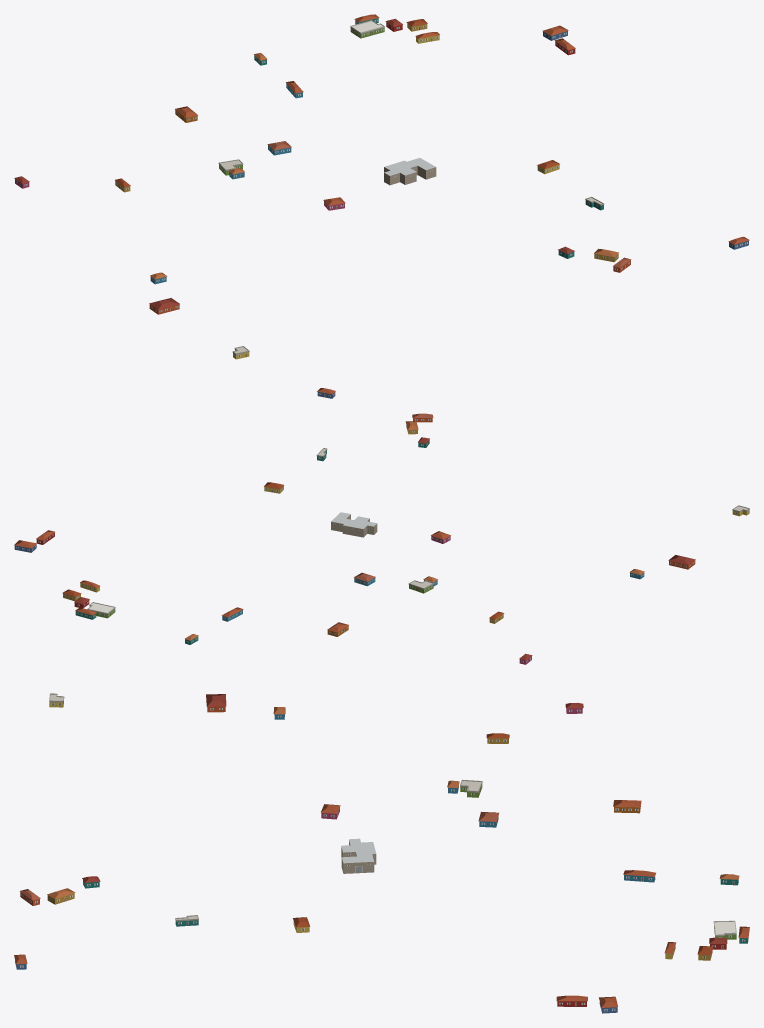
The model's file is msb_oranjestad_m10_m1.glb.
3 views of the same model, one above another, from view 1: azimuth 30°, elevation 25°; view 2: azimuth 150°, elevation 25°; view 3: azimuth 270°, elevation 25° (orthographic). The views are drawn at different scales.
Parts seen in each view (by area): view 1: msb_oranjestad_m10_m1_lod0; view 2: msb_oranjestad_m10_m1_lod0; view 3: msb_oranjestad_m10_m1_lod0.
Part boxes in pixels (bbox=[...]): msb_oranjestad_m10_m1_lod0: bbox=[14, 14, 749, 359]; msb_oranjestad_m10_m1_lod0: bbox=[14, 388, 749, 664]; msb_oranjestad_m10_m1_lod0: bbox=[14, 693, 749, 1013].
Size of what is drawn, in the model's own units: 409 by 13.69 by 395.
Materials: 3 (1 with a texture image).
